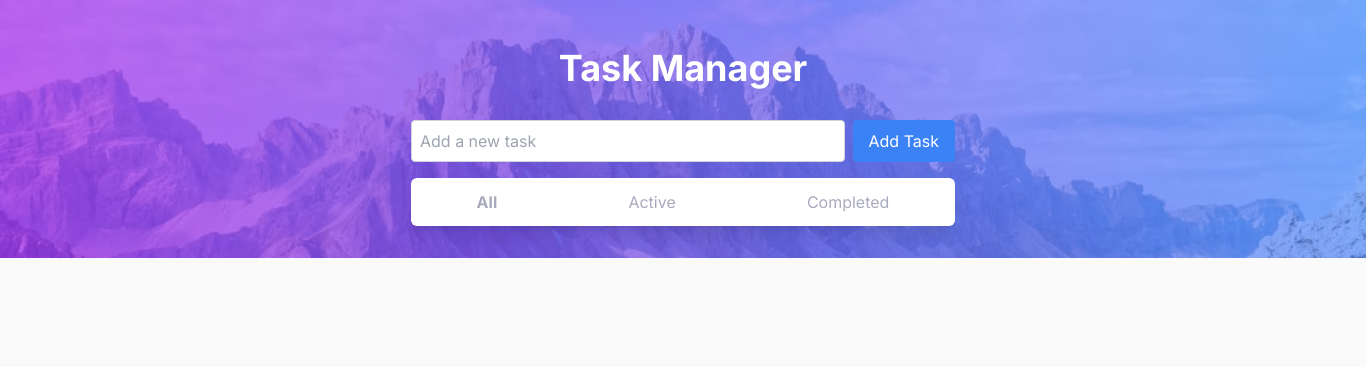
Test: Home › adds a new task
This screenshot has width=1366, height=367.
Type "New Task" into the field with placeholder "Add a new task" at (628, 141), box [411,120,844,162]
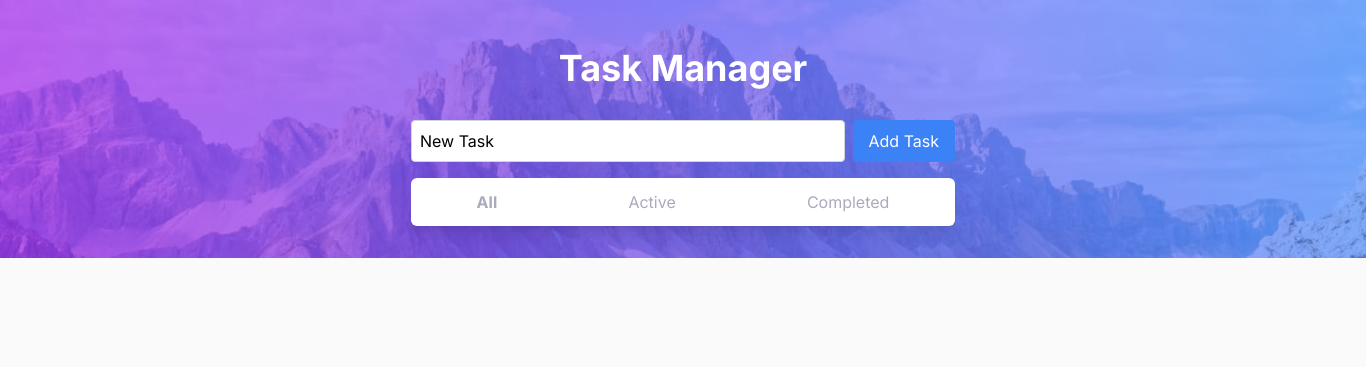
Submit the form with placeholder "Add a new task", box [411,120,955,162]
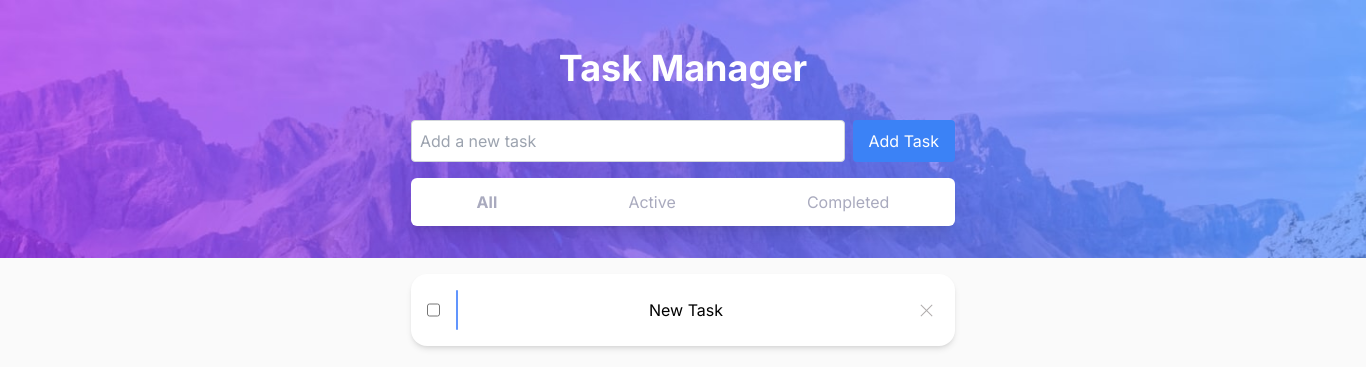
Check: the text "New Task" is shown, box [649,298,723,322]
